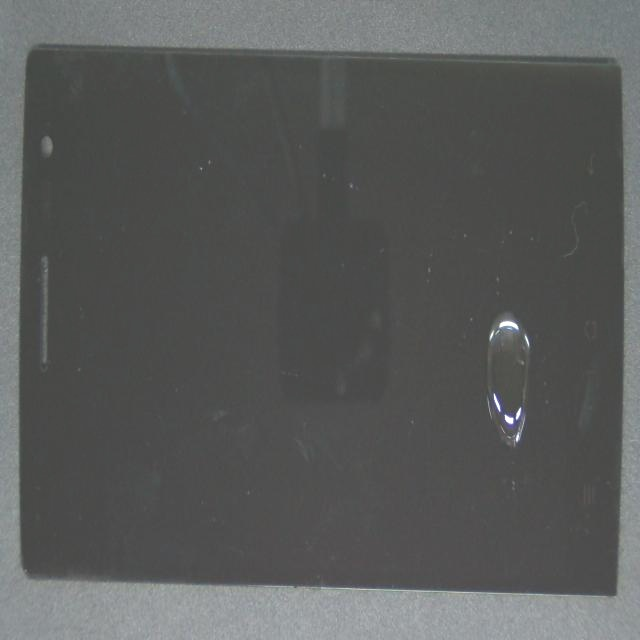oil: (282, 180, 640, 504)
